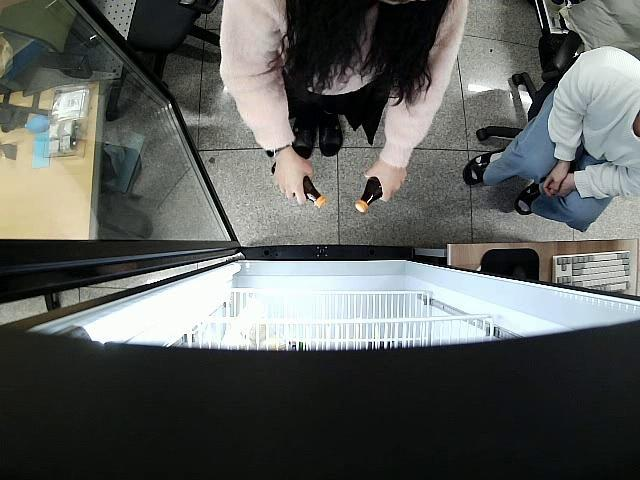17_vita500: (270, 162, 327, 209), (354, 176, 382, 212)
